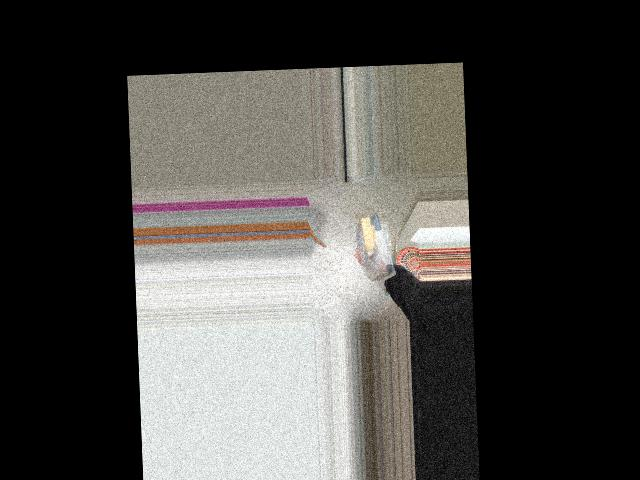cheese: (354, 212, 398, 280)
